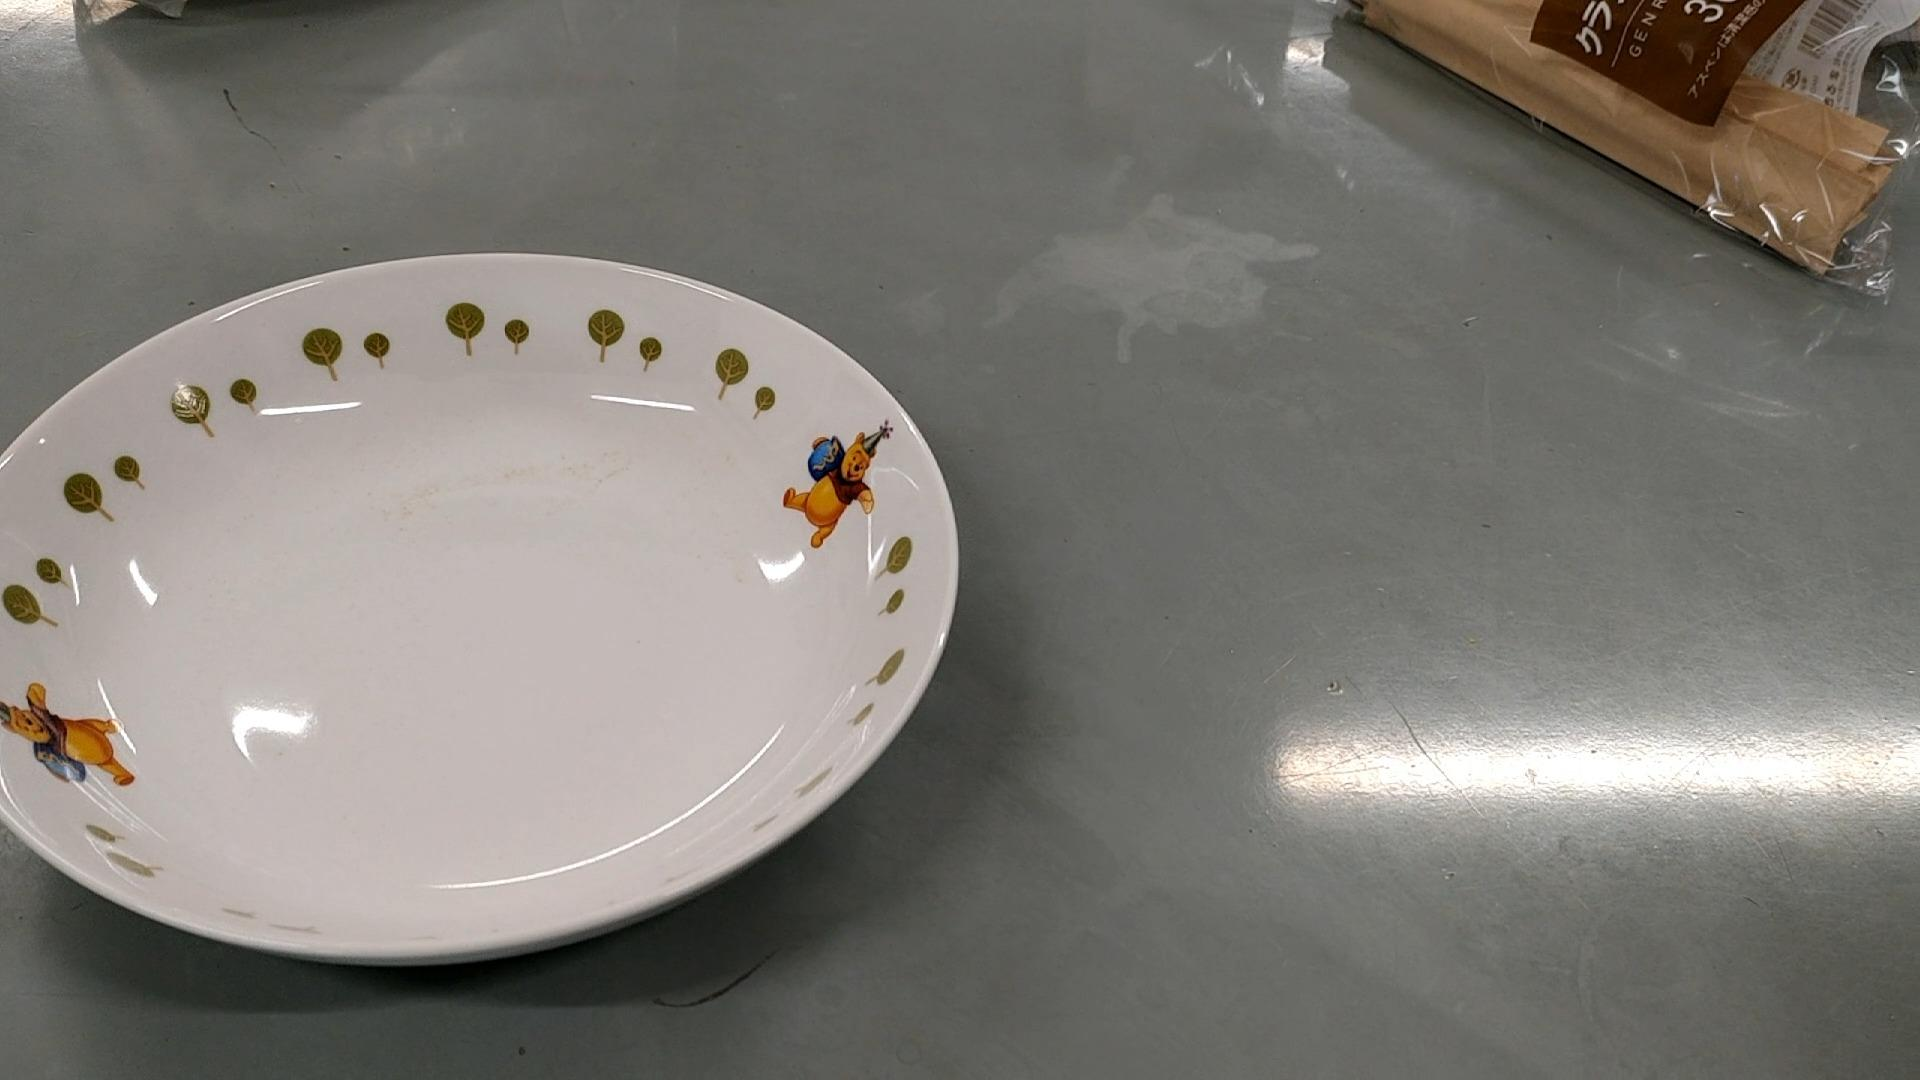plate: (0, 247, 959, 973)
